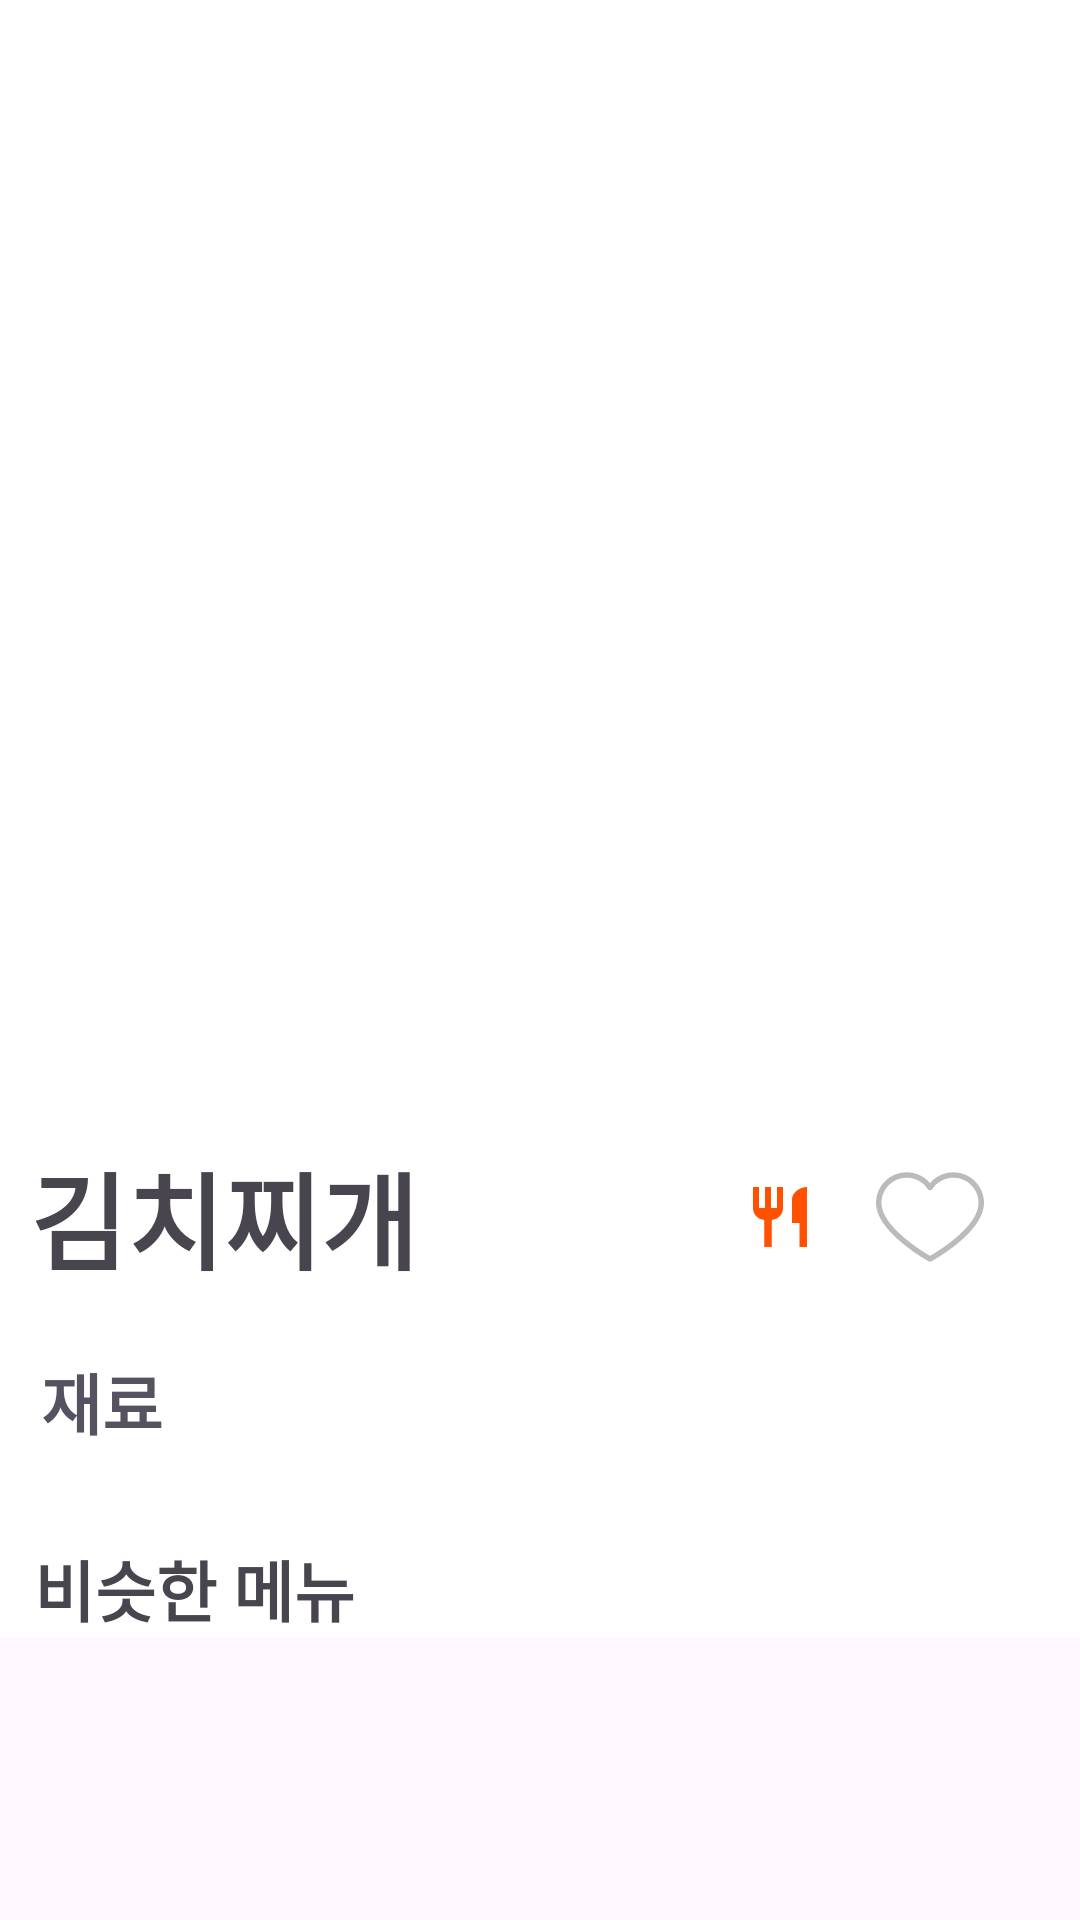

Icon bounding boxes for this 1080x1920 phone screenshot, format (x1, y1, x2, y2):
heart empty: (876, 1172, 984, 1262)
restaurant: (753, 1187, 807, 1247)
